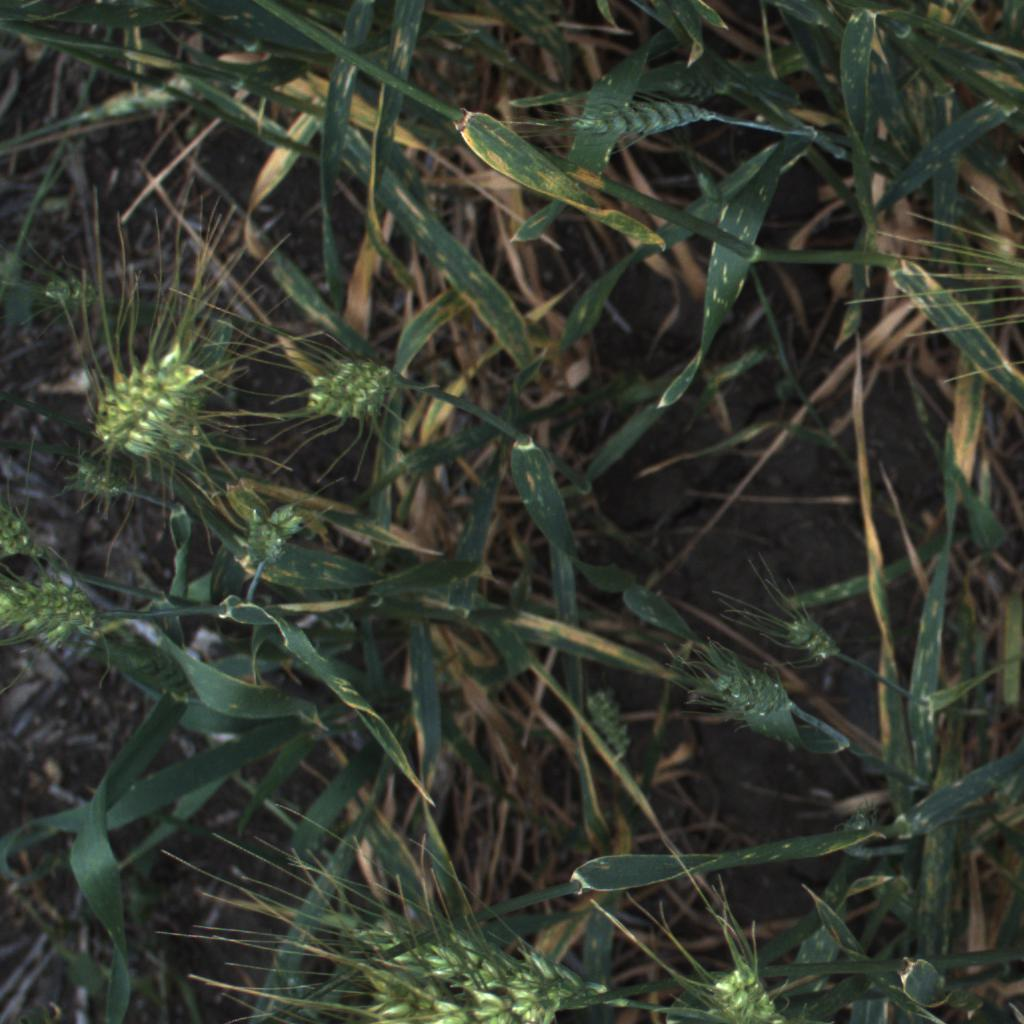0-0: (351, 927, 647, 1013), (93, 347, 202, 459), (288, 343, 414, 437), (363, 980, 594, 1024), (1, 573, 116, 654), (698, 655, 811, 736), (696, 945, 803, 1024), (574, 97, 717, 148), (764, 597, 853, 673), (239, 503, 303, 568), (0, 489, 50, 564), (39, 262, 104, 305), (73, 462, 131, 496), (666, 79, 726, 109)
